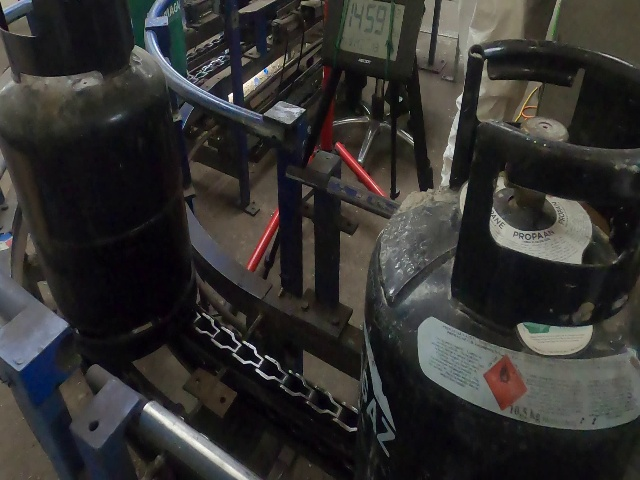gas_bottle: (0, 0, 628, 473)
